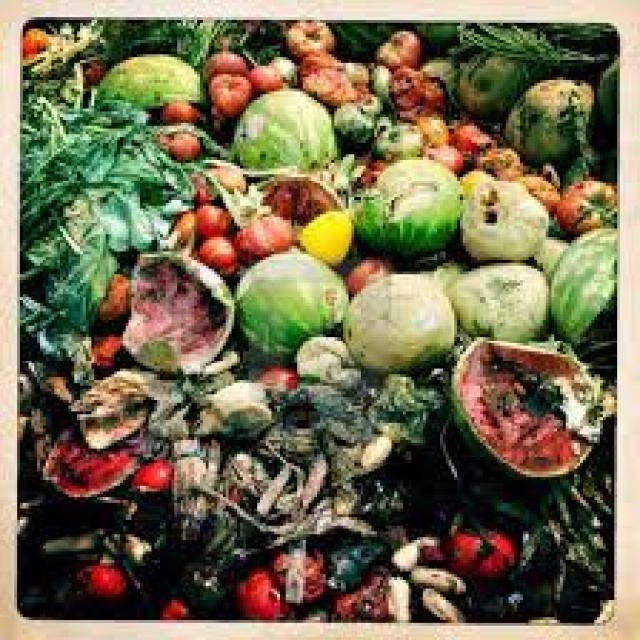food_waste: (20, 27, 592, 600)
